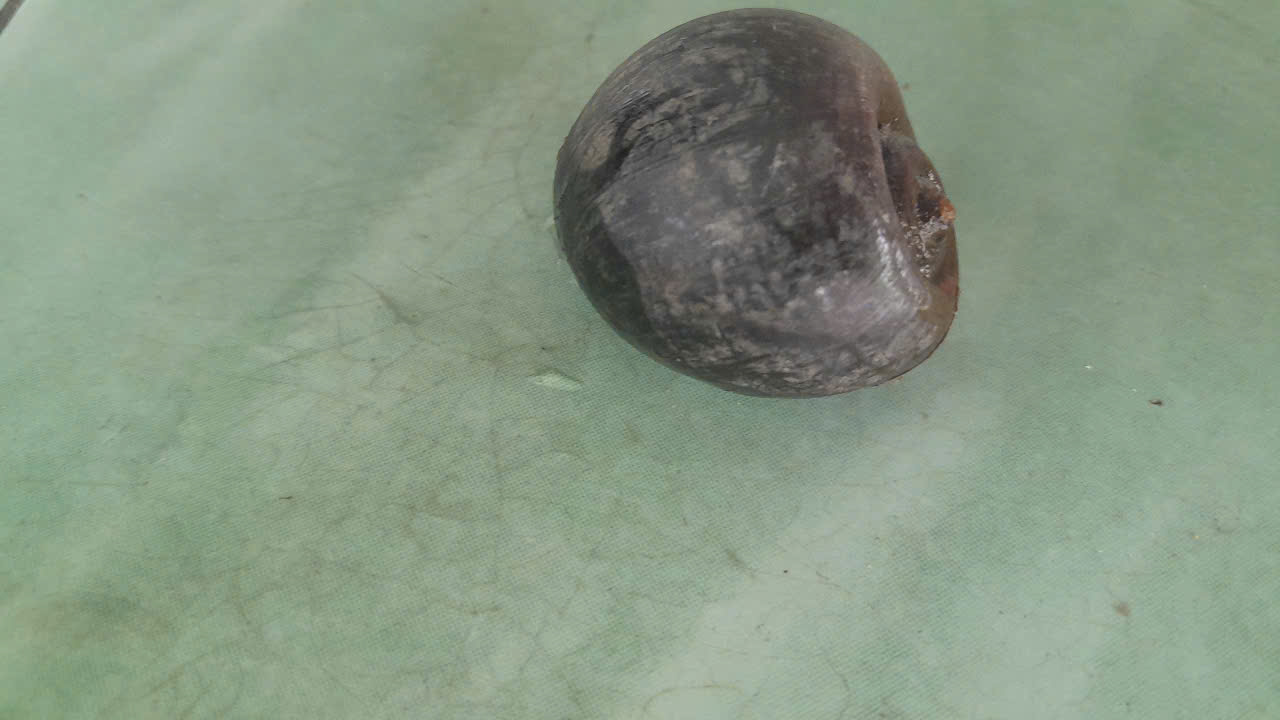oc_buou_vang: (531, 11, 995, 415)
